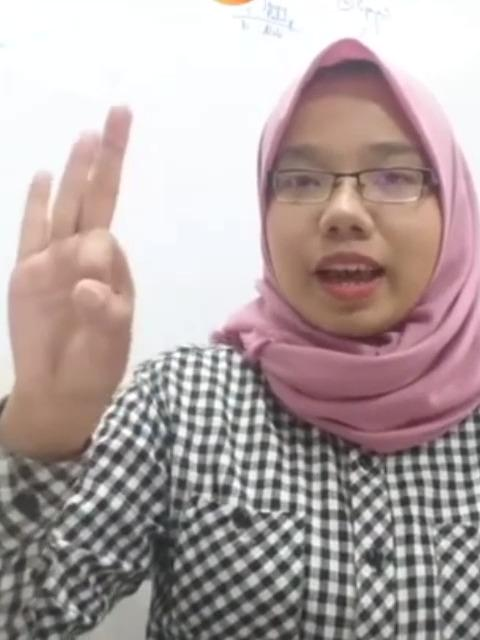F: (7, 100, 137, 390)
